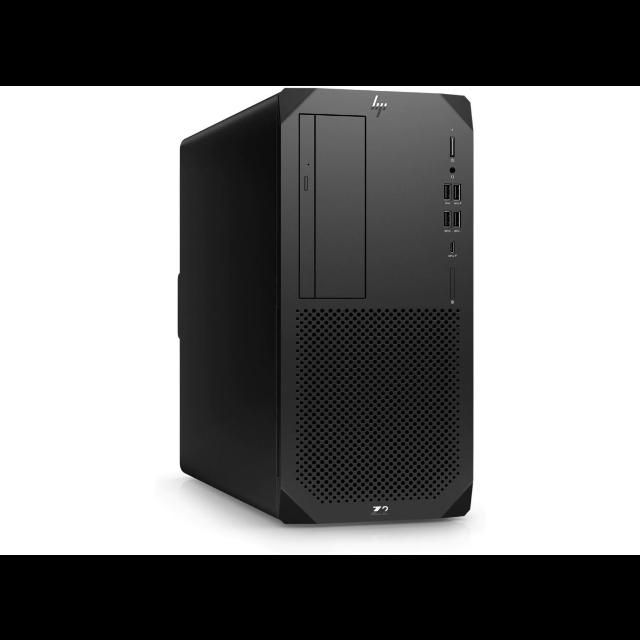Desktop-PC: (179, 86, 473, 520)
